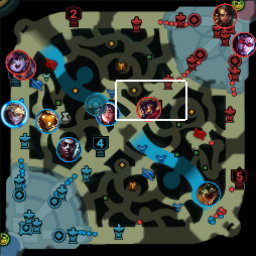bard: (34, 108, 59, 133)
draven: (13, 54, 36, 79)
ekko: (57, 136, 81, 162)
ezreal: (3, 100, 26, 127)
irelia: (95, 103, 118, 126)
lulu: (4, 49, 29, 74)
nidalee: (212, 4, 237, 28)
renekton: (195, 181, 220, 205)
vayne: (230, 31, 255, 56)
viktor: (135, 97, 161, 121)
